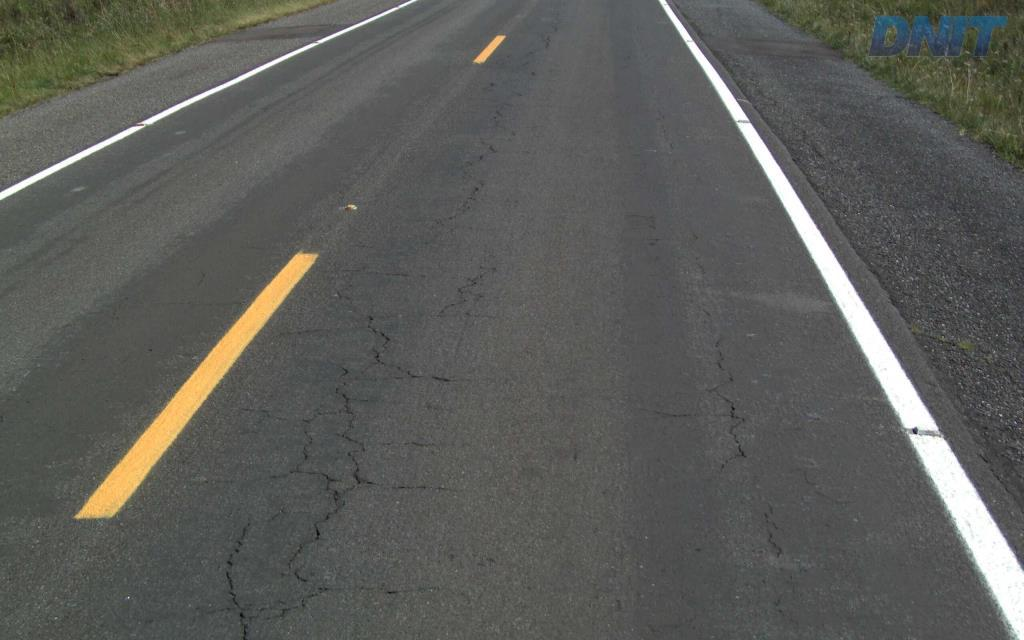crack: (286, 471, 345, 570), (219, 570, 259, 639)
